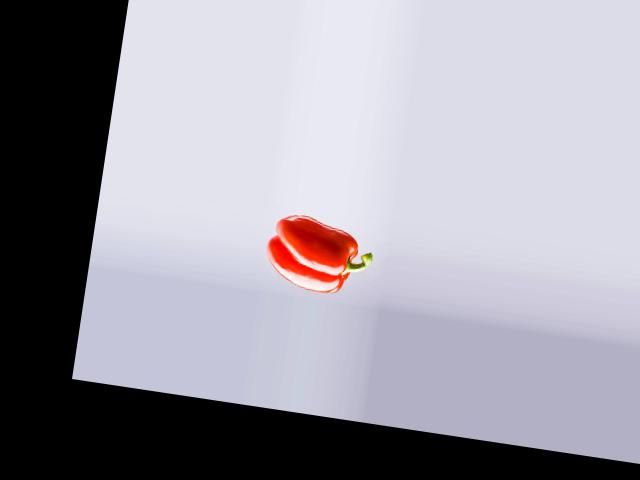bell_pepper: (264, 210, 378, 302)
